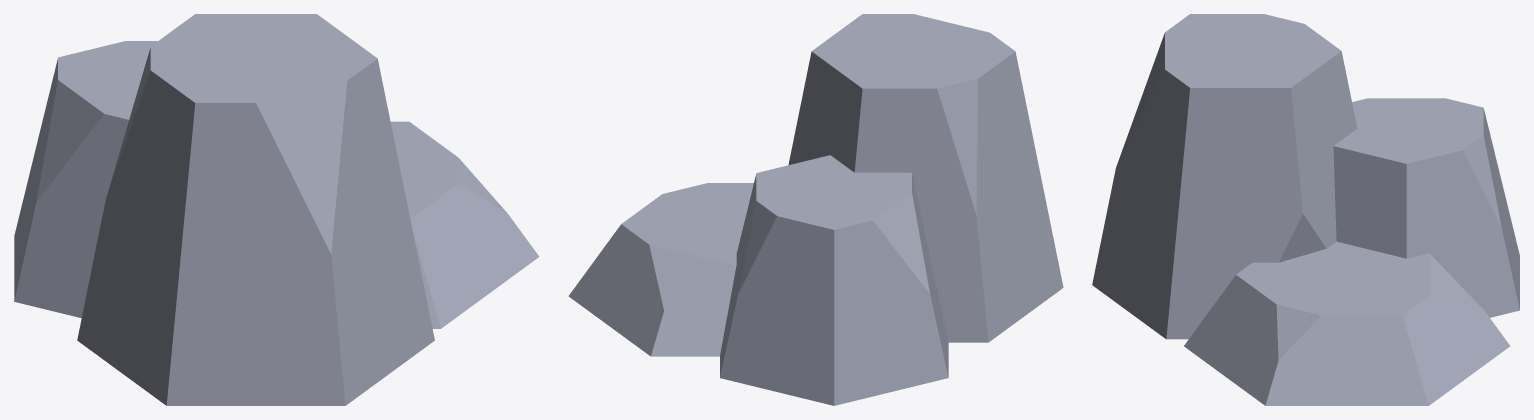
File: rocks.glb
3 views of the same model, side by side, from view 1: azimuth 30°, elevation 25°; view 2: azimuth 150°, elevation 25°; view 3: azimuth 270°, elevation 25° (orthographic). The views are drawn at different scales.
Visible parts, largest first — view 1: rocks; view 2: rocks; view 3: rocks.
Part boxes in pixels (left/top/right/bottom): rocks: left=14, top=14, right=539, bottom=405; rocks: left=568, top=14, right=1063, bottom=405; rocks: left=1092, top=14, right=1519, bottom=405.
Size of the model in its own units: 0.6531 by 0.4 by 0.6623.
